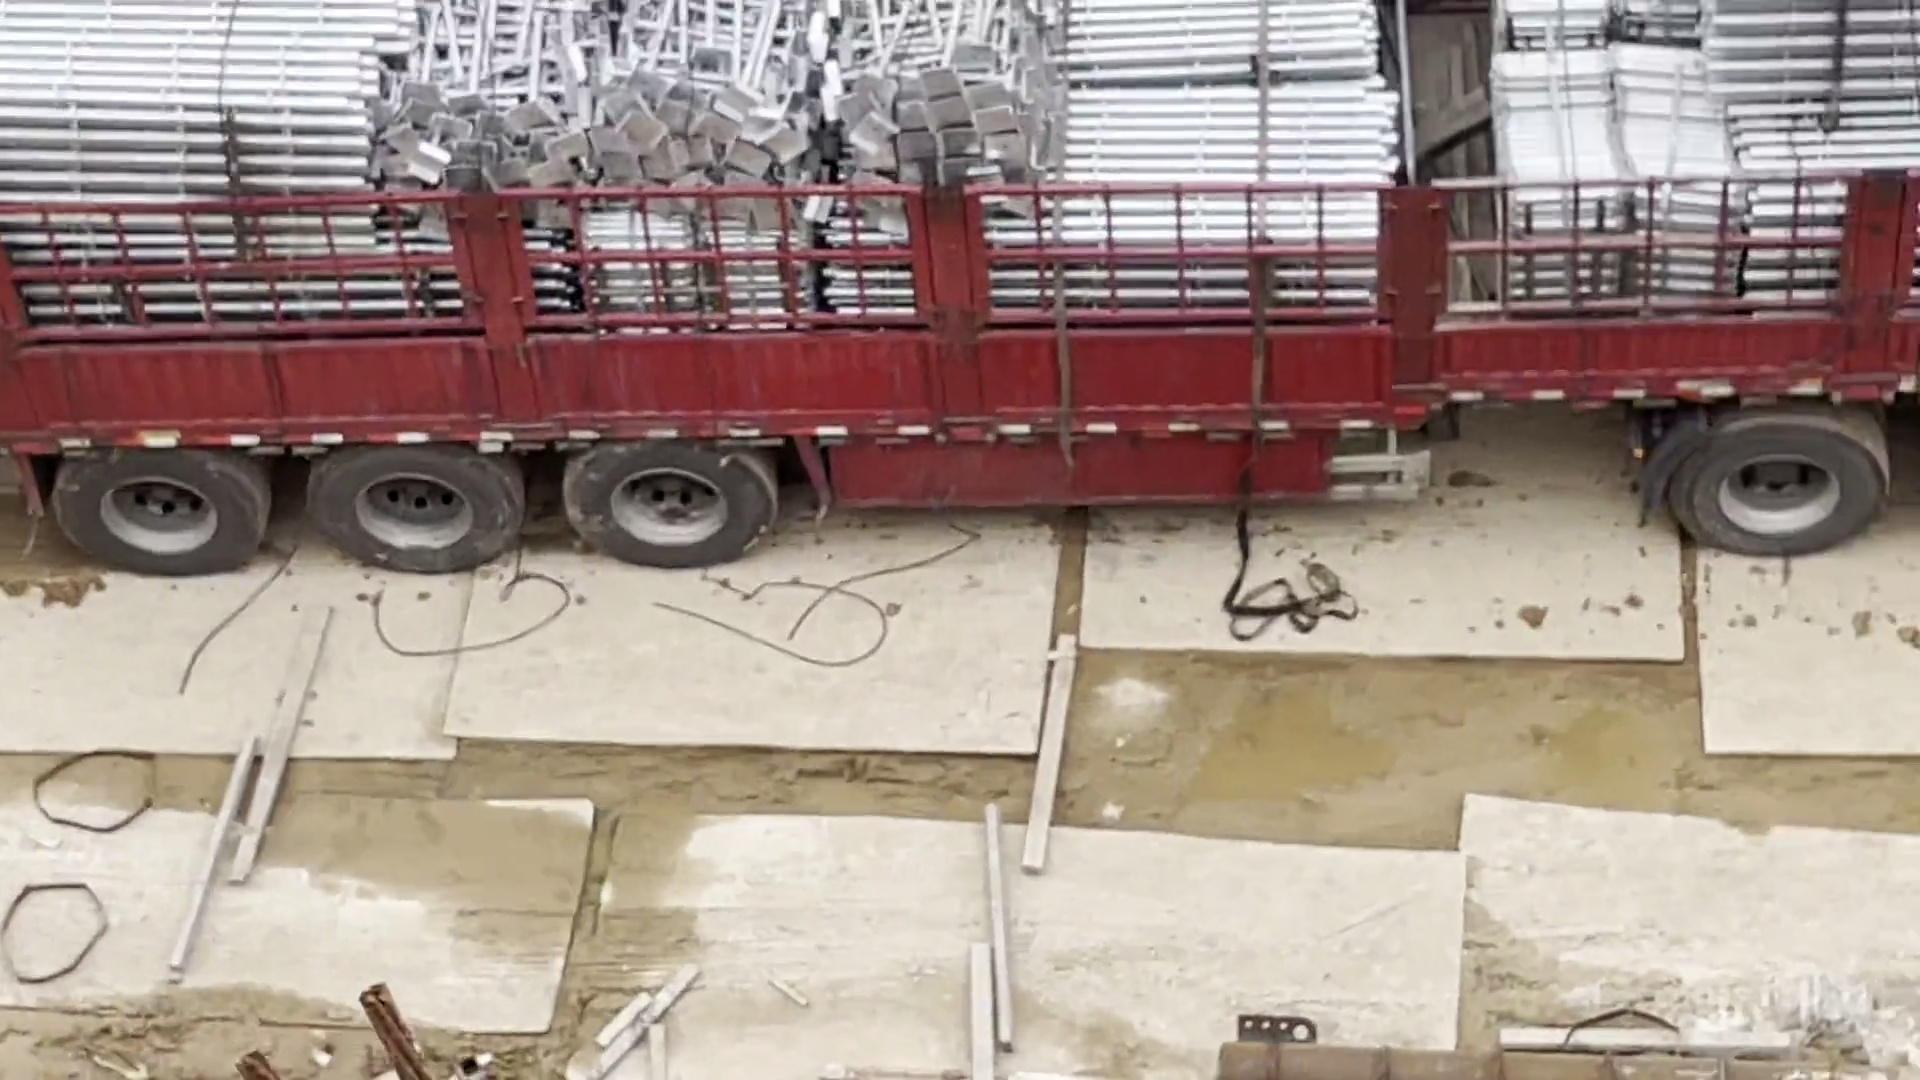scaffold: (843, 75, 1379, 309), (1, 1, 380, 255), (1630, 61, 1850, 309), (1716, 1, 1911, 164), (1509, 59, 1619, 301), (1060, 7, 1375, 73)
